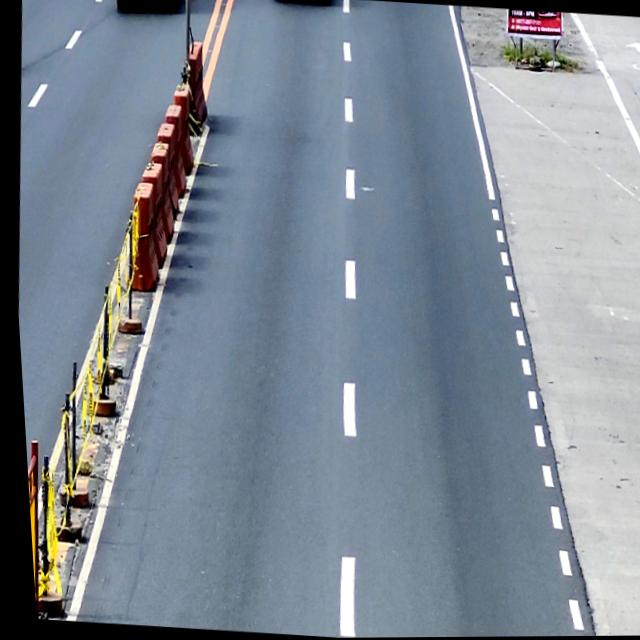Car: (113, 0, 181, 13)
